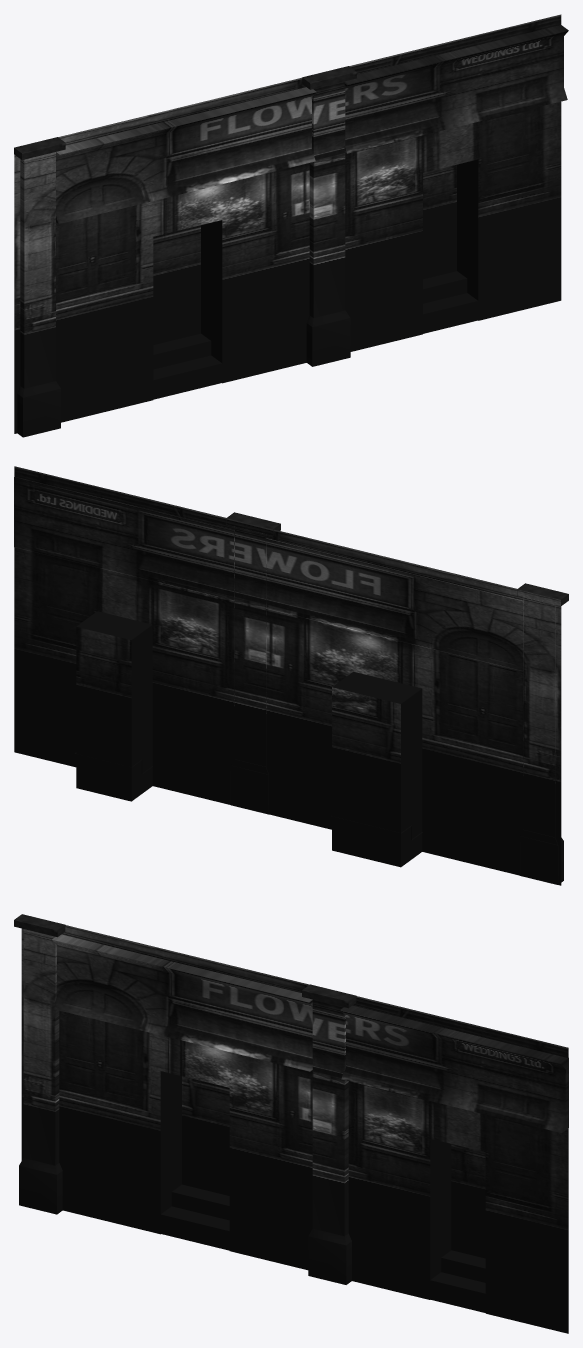
Rendered from shop.obj.
3 views of the same model, one above another, from view 1: azimuth 30°, elevation 25°; view 2: azimuth 150°, elevation 25°; view 3: azimuth 330°, elevation 25° (orthographic).
Parts seen in each view (by area): view 1: group; view 2: group; view 3: group.
Boxes of the visible parts, box(x1,y1,x2,y2) form: group: box(14, 14, 568, 437); group: box(14, 466, 568, 885); group: box(14, 914, 568, 1333).
Size of the model in its own units: 10 by 5 by 0.922.
